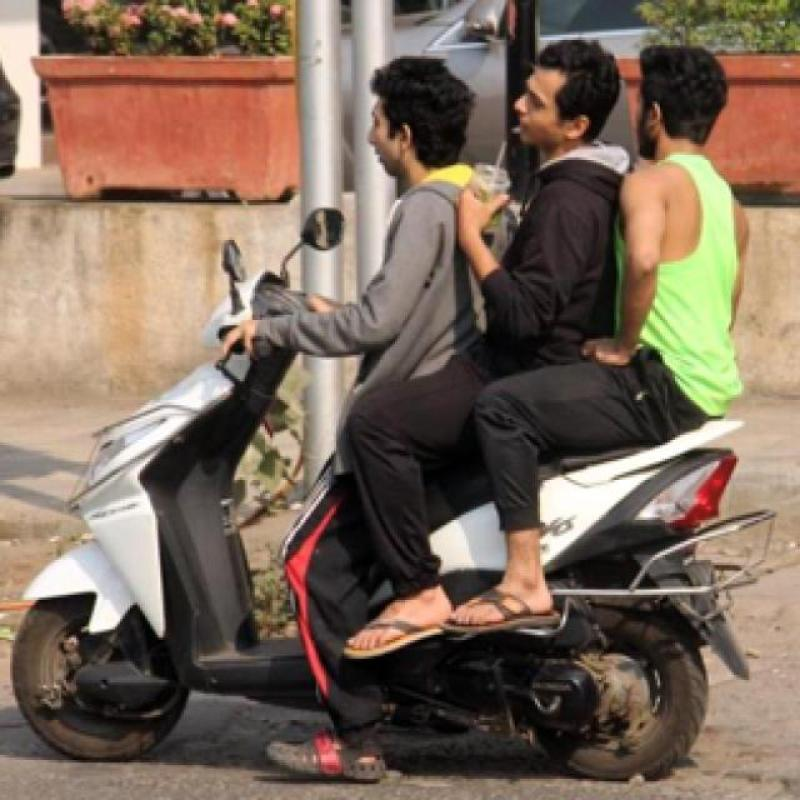nohelmet: (622, 28, 740, 158), (508, 38, 618, 177), (362, 58, 484, 178)
